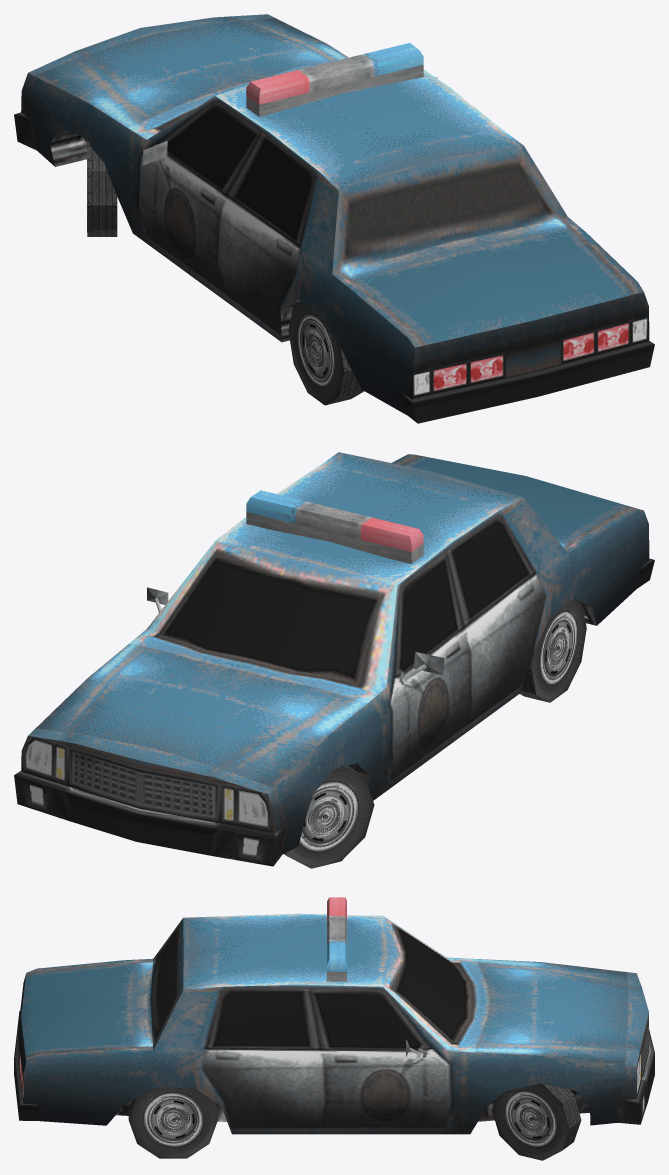
Rendered from cop_cruiser_psx.glb.
3 renders of one model, top to bottom at view 1: azimuth 30°, elevation 25°; view 2: azimuth 150°, elevation 25°; view 3: azimuth 270°, elevation 25°, orthographic. The views are drawn at different scales.
Visible parts, largest first — view 1: CopCar, copCar_Trunk, copCar_Wheels.001, copCar_Wheels; view 2: CopCar, copCar_Trunk, copCar_Wheels, copCar_Wheels.001; view 3: CopCar, copCar_Trunk, copCar_Wheels.002, copCar_Wheels.003.
Boxes of the visible parts, x1=… form: CopCar: x1=14, y1=14, x2=654, y2=423; copCar_Trunk: x1=332, y1=217, x2=648, y2=363; copCar_Wheels.001: x1=288, y1=301, x2=363, y2=405; copCar_Wheels: x1=87, y1=140, x2=117, y2=236; CopCar: x1=14, y1=452, x2=654, y2=866; copCar_Trunk: x1=392, y1=454, x2=643, y2=552; copCar_Wheels: x1=284, y1=765, x2=374, y2=868; copCar_Wheels.001: x1=520, y1=599, x2=586, y2=702; CopCar: x1=14, y1=897, x2=654, y2=1134; copCar_Trunk: x1=18, y1=958, x2=153, y2=1074; copCar_Wheels.002: x1=492, y1=1083, x2=581, y2=1160; copCar_Wheels.003: x1=128, y1=1087, x2=217, y2=1158.
Size of the model in its own units: 2.23 by 1.65 by 5.24.
Materials: 1 (1 with a texture image).
